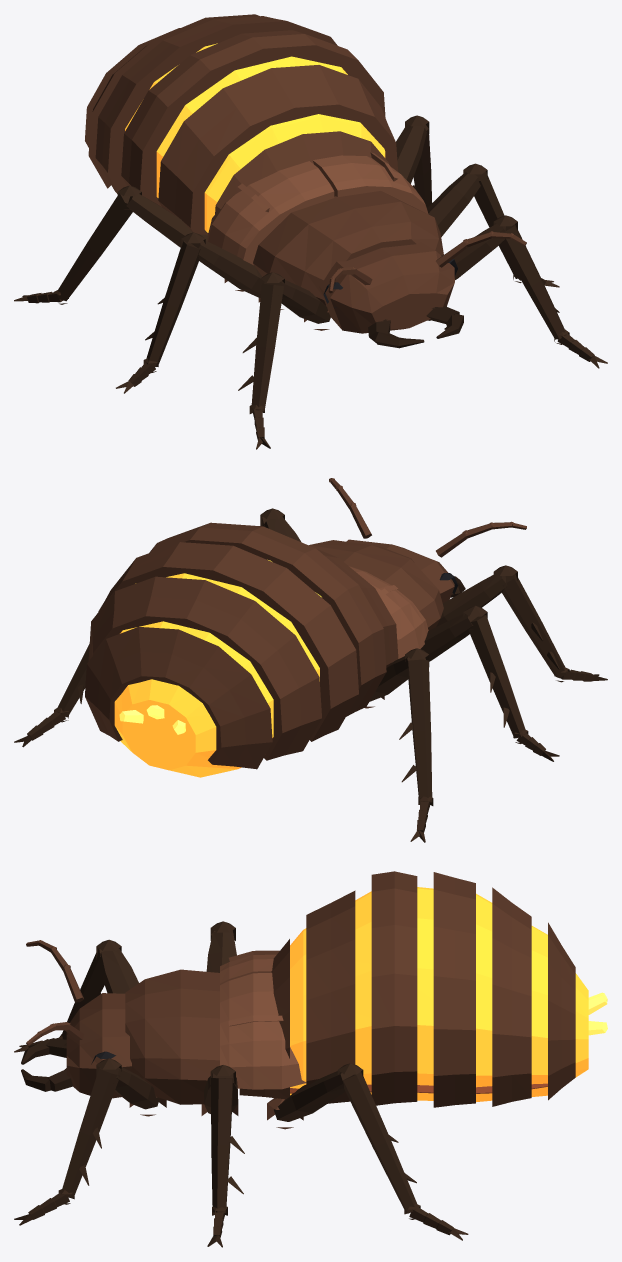
Rendered from bomber.glb.
The picture shows the model from 3 angles, top to bottom: view 1: azimuth 30°, elevation 25°; view 2: azimuth 150°, elevation 25°; view 3: azimuth 270°, elevation 25°; orthographic projection. The views are drawn at different scales.
Visible parts, largest first — view 1: BeetleSternite_04, BeetleSternite_05, ThoraxCore, HeadBase001, BeetleSternite_06, BeetlePlate_01, bomb_gland, BeetleSternite_03, BeetlePlate_00, Tibia001, Tibia003, Tibia005 (+11 smaller); view 2: BeetleSternite_07, BeetleSternite_08, BeetleSternite_06, bomb_gland, BeetleSternite_05, ThoraxCore, Tibia005, Tibia003, BeetlePlate_01, Tibia001, BeetleSternite_04, Femur001 (+5 smaller); view 3: bomb_gland, BeetleSternite_05, ThoraxCore, BeetleSternite_06, BeetleSternite_04, BeetleSternite_07, BeetlePlate_00, HeadBase001, BeetleSternite_08, Tibia004, Tibia002, Tibia000 (+9 smaller).
Boxes of the visible parts, x1,y1,x2,y2 form: BeetleSternite_04: (158, 65, 397, 235); BeetleSternite_05: (121, 30, 385, 206); ThoraxCore: (253, 191, 443, 305); HeadBase001: (319, 242, 454, 333); BeetleSternite_06: (95, 16, 337, 193); BeetlePlate_01: (207, 161, 334, 265); bomb_gland: (125, 43, 385, 232); BeetleSternite_03: (215, 131, 389, 216); BeetlePlate_00: (313, 152, 428, 214); Tibia001: (238, 283, 283, 411); Tibia003: (145, 241, 200, 366); Tibia005: (57, 193, 132, 301); BeetleSternite_07: (88, 576, 321, 760); BeetleSternite_08: (85, 627, 272, 769); BeetleSternite_06: (98, 542, 358, 741); bomb_gland: (114, 559, 321, 777); BeetleSternite_05: (149, 522, 386, 716); ThoraxCore: (309, 540, 443, 630); Tibia005: (399, 659, 432, 803); Tibia003: (468, 614, 526, 738); BeetlePlate_01: (349, 566, 428, 658); Tibia001: (502, 574, 566, 678); BeetleSternite_04: (317, 549, 398, 691); Femur001: (436, 573, 507, 626); bomb_gland: (290, 887, 588, 1101); BeetleSternite_05: (371, 871, 417, 1105); ThoraxCore: (125, 969, 219, 1104); BeetleSternite_06: (433, 872, 475, 1107); BeetleSternite_04: (306, 890, 355, 1103); BeetleSternite_07: (492, 887, 531, 1106); BeetlePlate_00: (220, 972, 306, 1089); HeadBase001: (66, 993, 131, 1098); BeetleSternite_08: (548, 922, 575, 1100); Tibia004: (342, 1072, 416, 1213); Tibia002: (211, 1077, 244, 1212); Tibia000: (61, 1068, 120, 1198).
Size of the model in its own units: 3.23 by 1.68 by 3.64.
